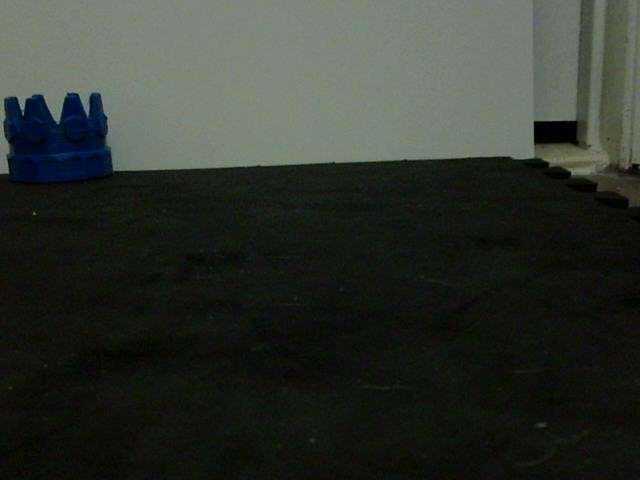crown: (3, 89, 114, 183)
